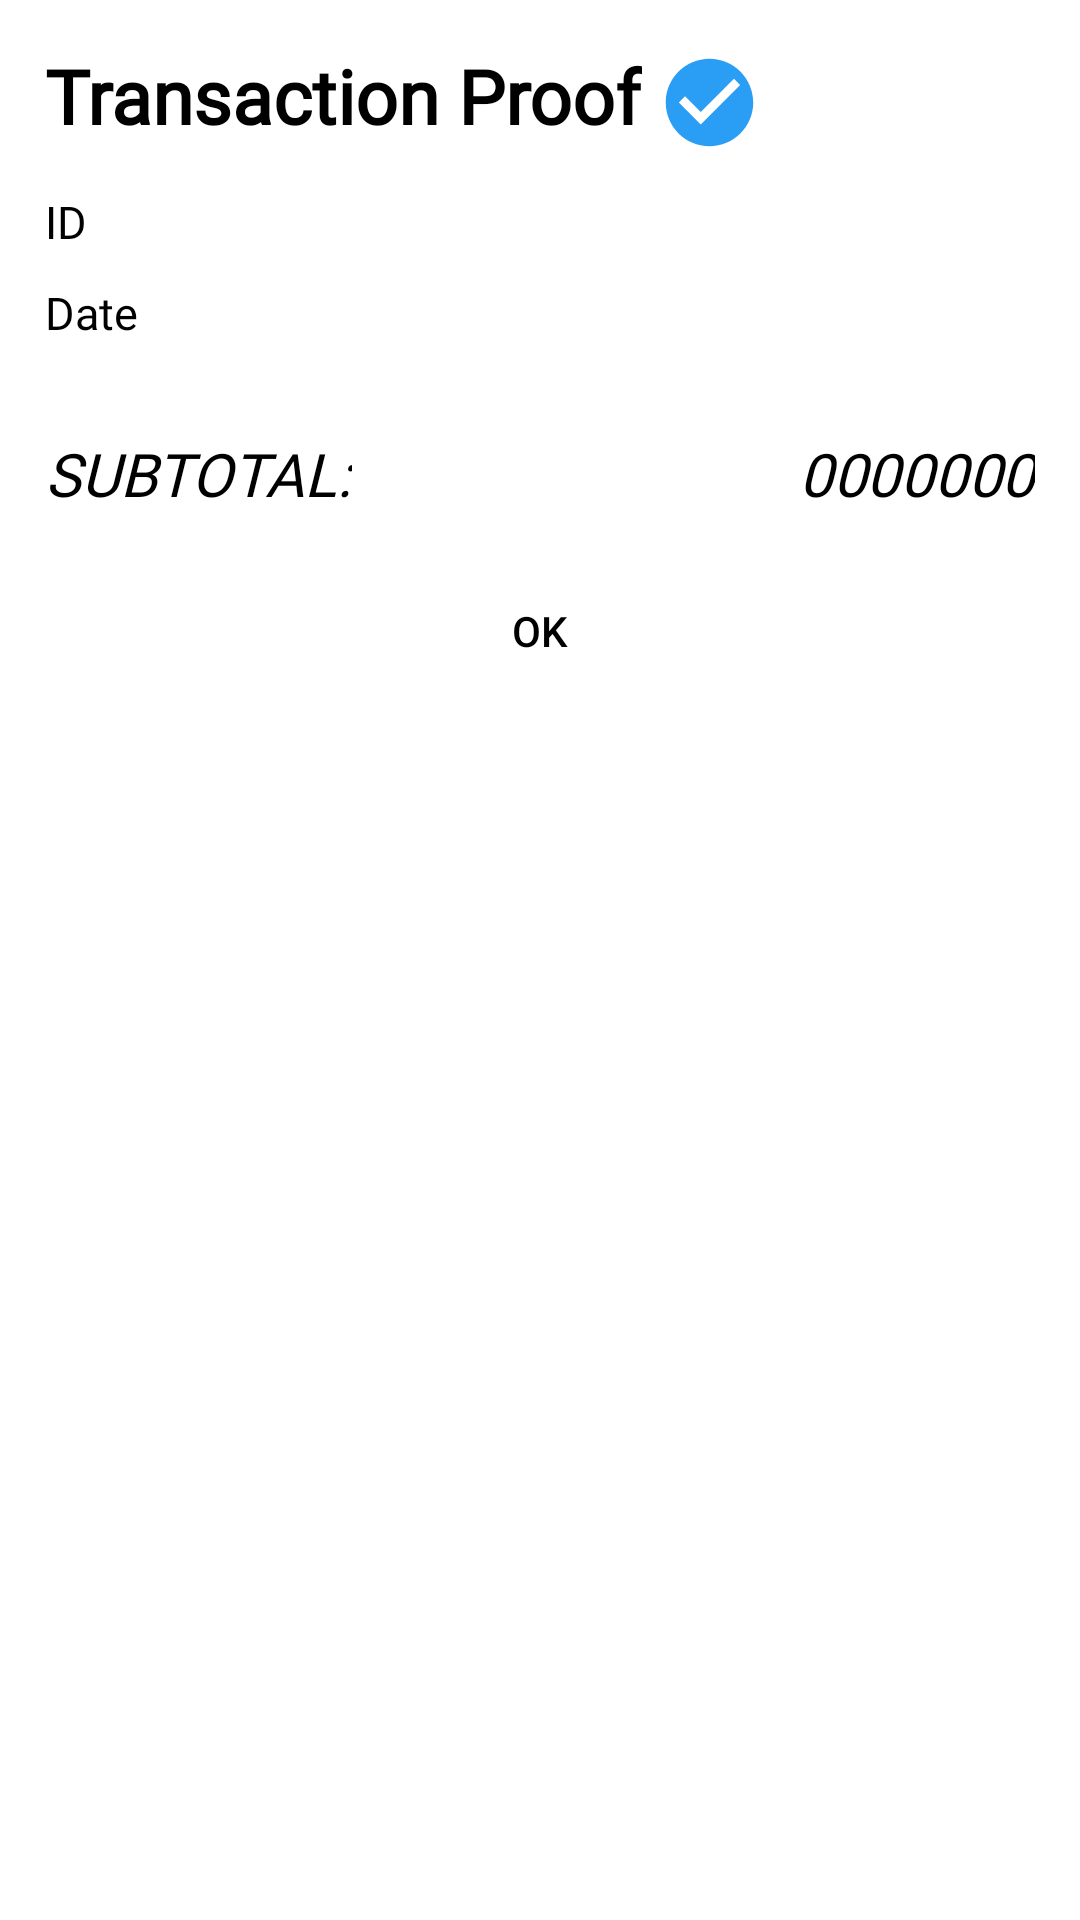

Icon click points for this 1080 × 1920 phone screenshot, format point (x, y):
check circle: point (709, 102)
